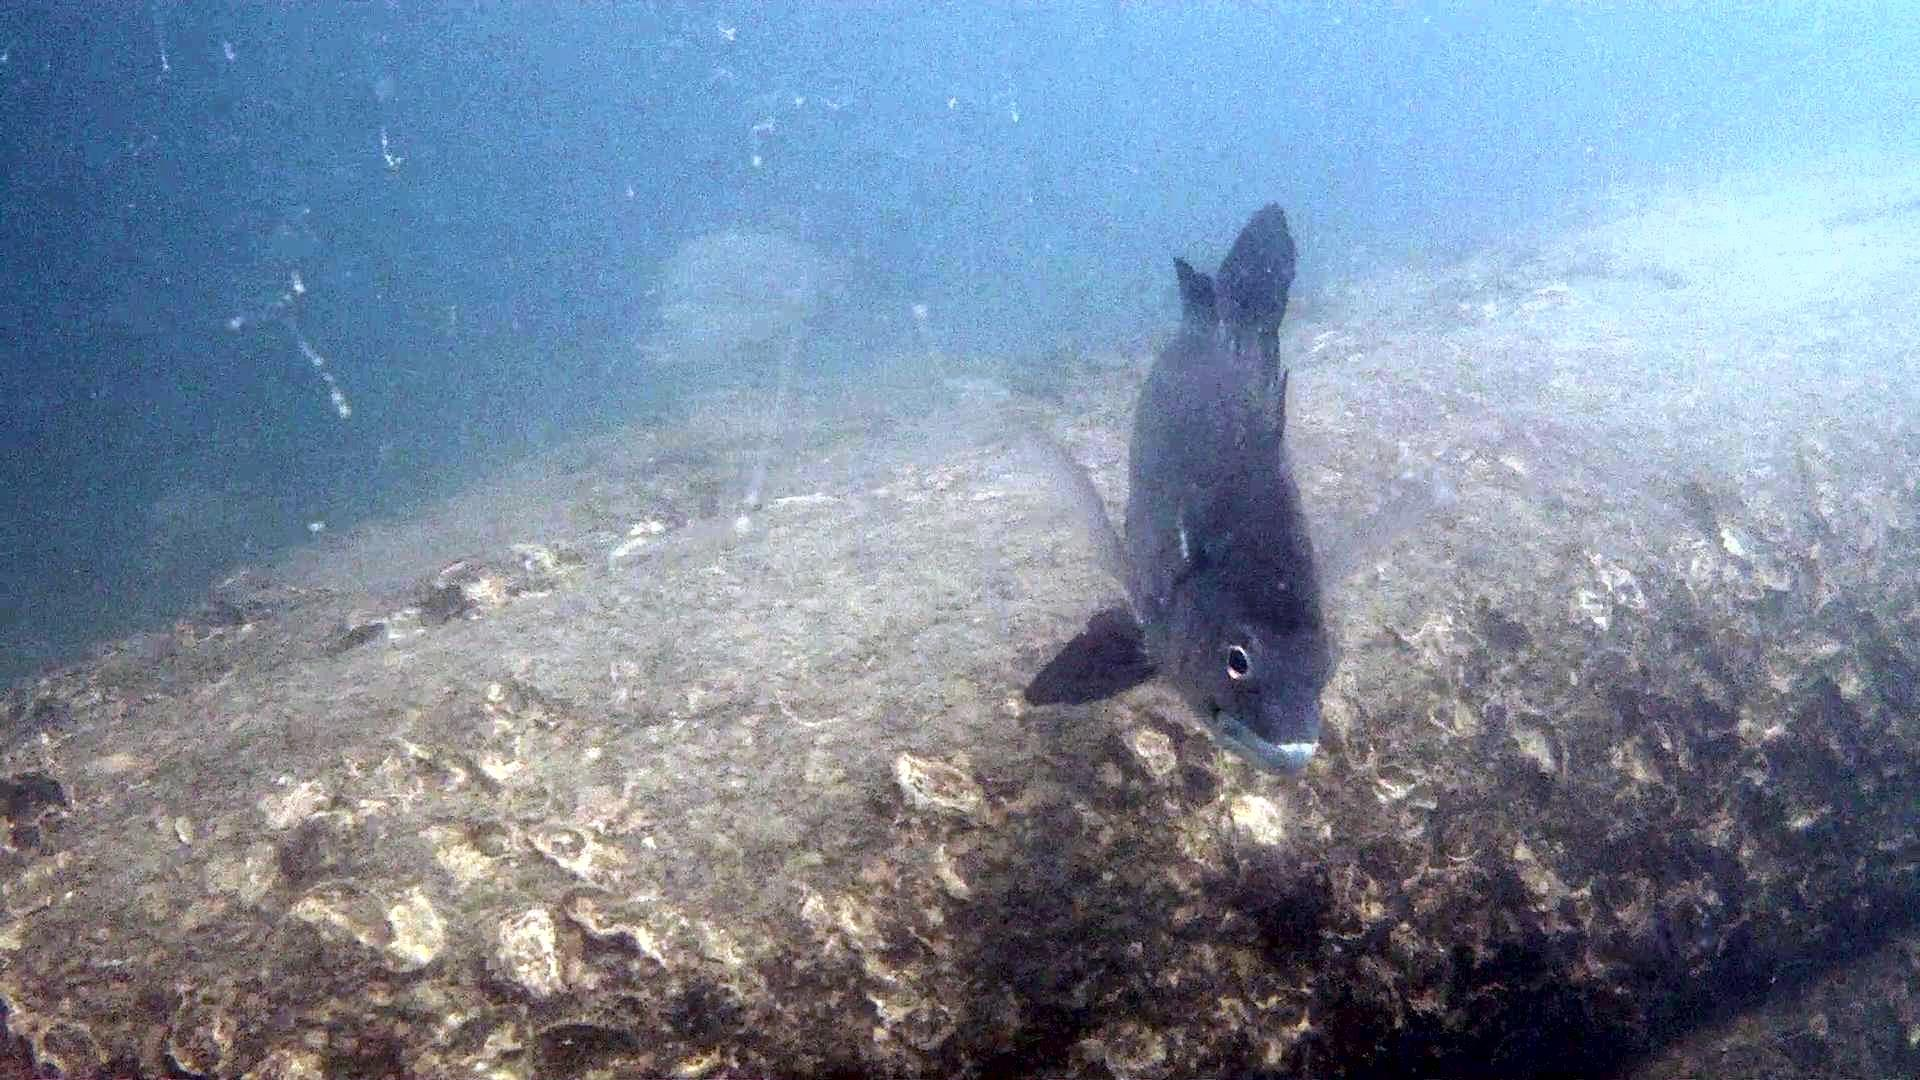acanthopagrus palmaris: (988, 186, 1478, 779)
